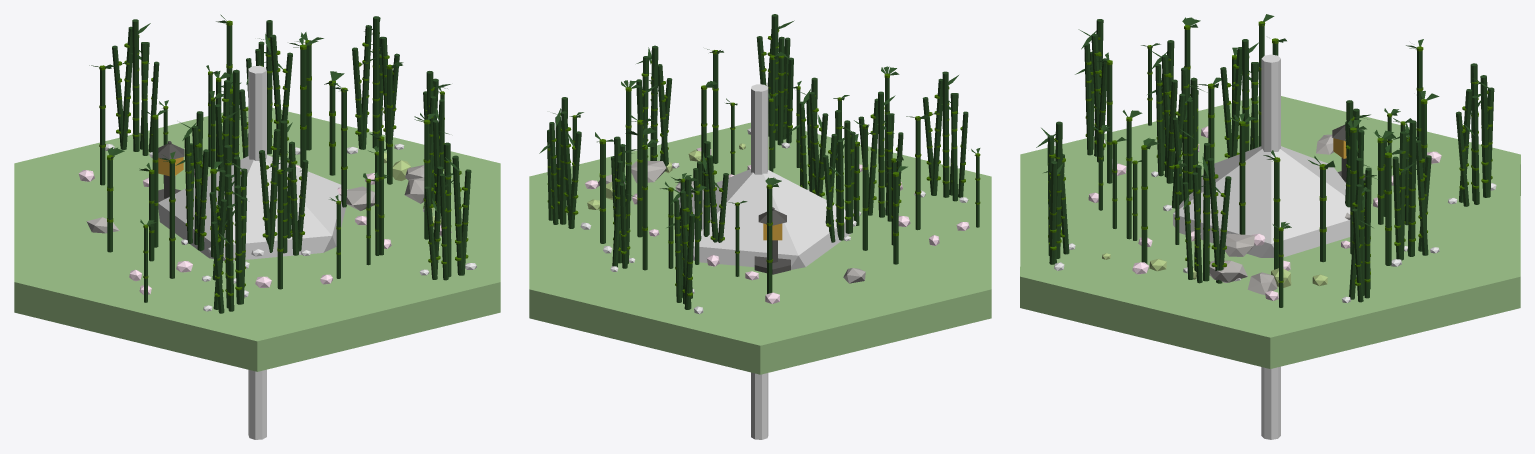
The model's file is bamboo_keystone_sprint3.glb.
3 renders of one model, left to right at view 1: azimuth 30°, elevation 25°; view 2: azimuth 150°, elevation 25°; view 3: azimuth 270°, elevation 25°, orthographic. The views are drawn at different scales.
Parts seen in each view (by area): view 1: Cylinder.001, Low Poly Stone, Low Poly Bamboo Stalk.002, Low Poly Bamboo Stalk.093, Low Poly Bamboo Stalk.063, Low Poly Bamboo Stalk.106, Low Poly Bamboo Stalk.049, BambooStalk_0_2, Low Poly Bamboo Stalk.094, Low Poly Bamboo Stalk.050, Low Poly Bamboo Stalk.064, Low Poly Bamboo Stalk.100 (+33 smaller); view 2: Cylinder.001, Low Poly Stone, Low Poly Bamboo Stalk.002, Low Poly Bamboo Stalk.074, Low Poly Bamboo Stalk.105, Low Poly Bamboo Stalk.087, Low Poly Bamboo Stalk.070, BambooStalk_3_3, BambooStalk_1_2, Low Poly Bamboo Stalk.106, BambooStalk_0_2, Low Poly Bamboo Stalk.073 (+31 smaller); view 3: Cylinder.001, Low Poly Stone, Low Poly Bamboo Stalk.002, Low Poly Bamboo Stalk.081, Low Poly Bamboo Stalk.087, Low Poly Bamboo Stalk.064, BambooStalk_2_3.004, Low Poly Bamboo Stalk.080, Low Poly Bamboo Stalk.099, BambooStalk_2_3.002, BambooStalk_0_0, Low Poly Bamboo Stalk.088 (+34 smaller).
Part boxes in pixels (x1,y1,x2,y2): Cylinder.001: (14, 106, 500, 371); Low Poly Stone: (158, 155, 345, 260); Low Poly Bamboo Stalk.002: (248, 65, 266, 439); Low Poly Bamboo Stalk.093: (372, 16, 379, 148); Low Poly Bamboo Stalk.063: (132, 19, 139, 151); Low Poly Bamboo Stalk.106: (234, 185, 242, 304); Low Poly Bamboo Stalk.049: (268, 129, 280, 252); BambooStalk_0_2: (300, 49, 306, 167); Low Poly Bamboo Stalk.094: (360, 25, 371, 149); Low Poly Bamboo Stalk.050: (280, 120, 287, 253); Low Poly Bamboo Stalk.064: (120, 26, 132, 149); Low Poly Bamboo Stalk.100: (452, 155, 462, 275); Cylinder.001: (529, 122, 991, 374); Low Poly Stone: (678, 169, 853, 269); Low Poly Bamboo Stalk.002: (751, 84, 768, 439); Low Poly Bamboo Stalk.074: (878, 91, 884, 217); Low Poly Bamboo Stalk.105: (942, 71, 949, 197); Low Poly Bamboo Stalk.087: (650, 45, 658, 160); Low Poly Bamboo Stalk.070: (844, 120, 851, 233); BambooStalk_3_3: (862, 128, 867, 250); BambooStalk_1_2: (642, 149, 647, 270); Low Poly Bamboo Stalk.106: (931, 78, 942, 195); BambooStalk_0_2: (637, 124, 643, 237); Low Poly Bamboo Stalk.073: (868, 98, 878, 215); Cylinder.001: (1020, 96, 1520, 368); Low Poly Stone: (1173, 146, 1350, 257); Low Poly Bamboo Stalk.002: (1261, 54, 1280, 439); Low Poly Bamboo Stalk.081: (1408, 120, 1416, 256); Low Poly Bamboo Stalk.087: (1203, 143, 1210, 281); Low Poly Bamboo Stalk.064: (1480, 75, 1489, 197); BambooStalk_2_3.004: (1141, 149, 1147, 263); Low Poly Bamboo Stalk.080: (1416, 140, 1428, 255); Low Poly Bamboo Stalk.099: (1055, 121, 1062, 258); BambooStalk_2_3.002: (1239, 125, 1245, 234); BambooStalk_0_0: (1385, 157, 1391, 265); Low Poly Bamboo Stalk.088: (1207, 158, 1219, 282).
Size of the model in its own units: 5 by 3.6 by 4.33.
